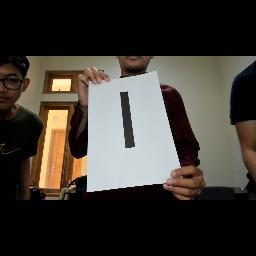i: (114, 88, 150, 156)
